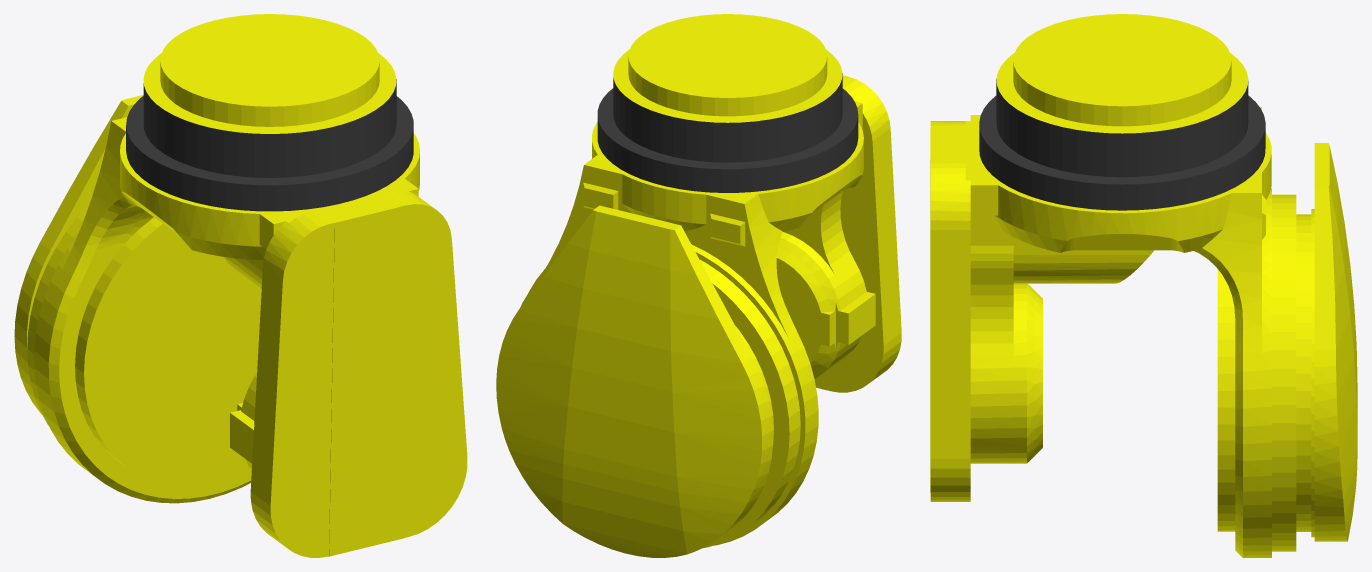
3 renders of one model, left to right at view 1: azimuth 30°, elevation 25°; view 2: azimuth 150°, elevation 25°; view 3: azimuth 270°, elevation 25°, orthographic. The views are drawn at different scales.
Visible parts, largest first — view 1: node; view 2: node; view 3: node.
Boxes of the visible parts, x1,y1,x2,y2 form: node: (14,14,467,557); node: (496,14,901,557); node: (930,14,1357,557).
Bounding box in the file's own units: 386 × 554 × 446.
